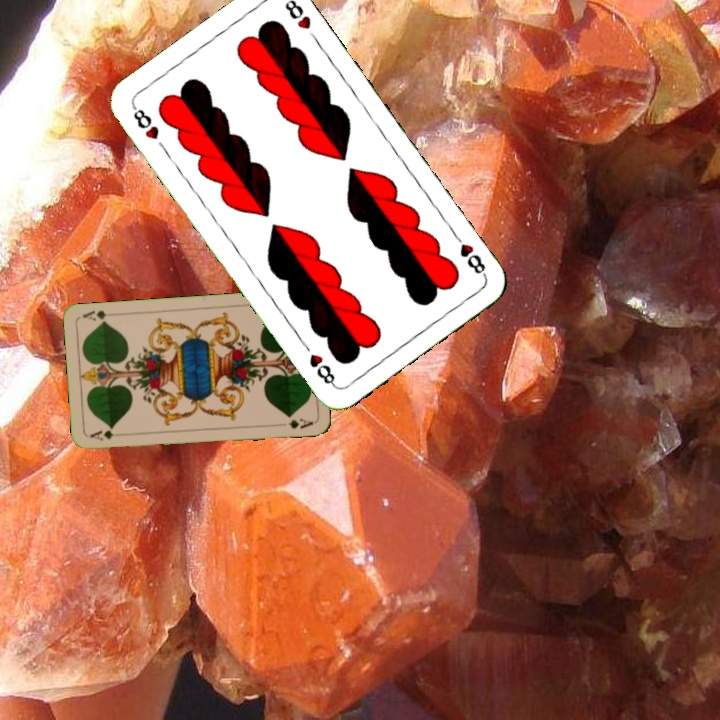GA: (86, 426, 116, 443)
H8: (449, 228, 490, 280), (128, 102, 162, 143)
